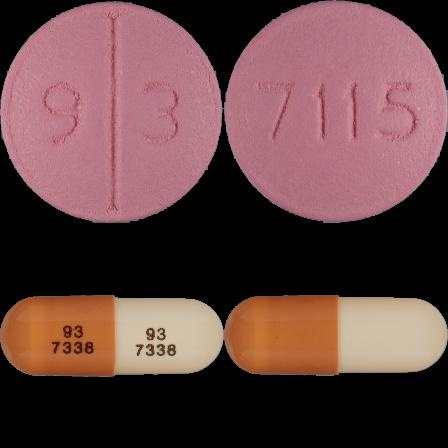66116-434: (0, 0, 224, 224)
